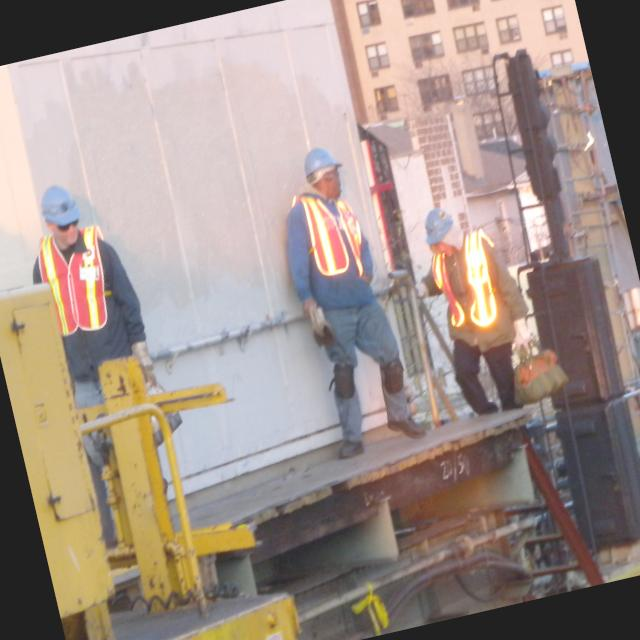helmet: (36, 180, 82, 232), (418, 204, 458, 246), (298, 142, 342, 178)
person: (11, 164, 192, 530), (284, 144, 422, 454), (398, 197, 546, 426)
vest: (25, 212, 125, 340), (410, 220, 517, 336), (285, 173, 380, 289)
